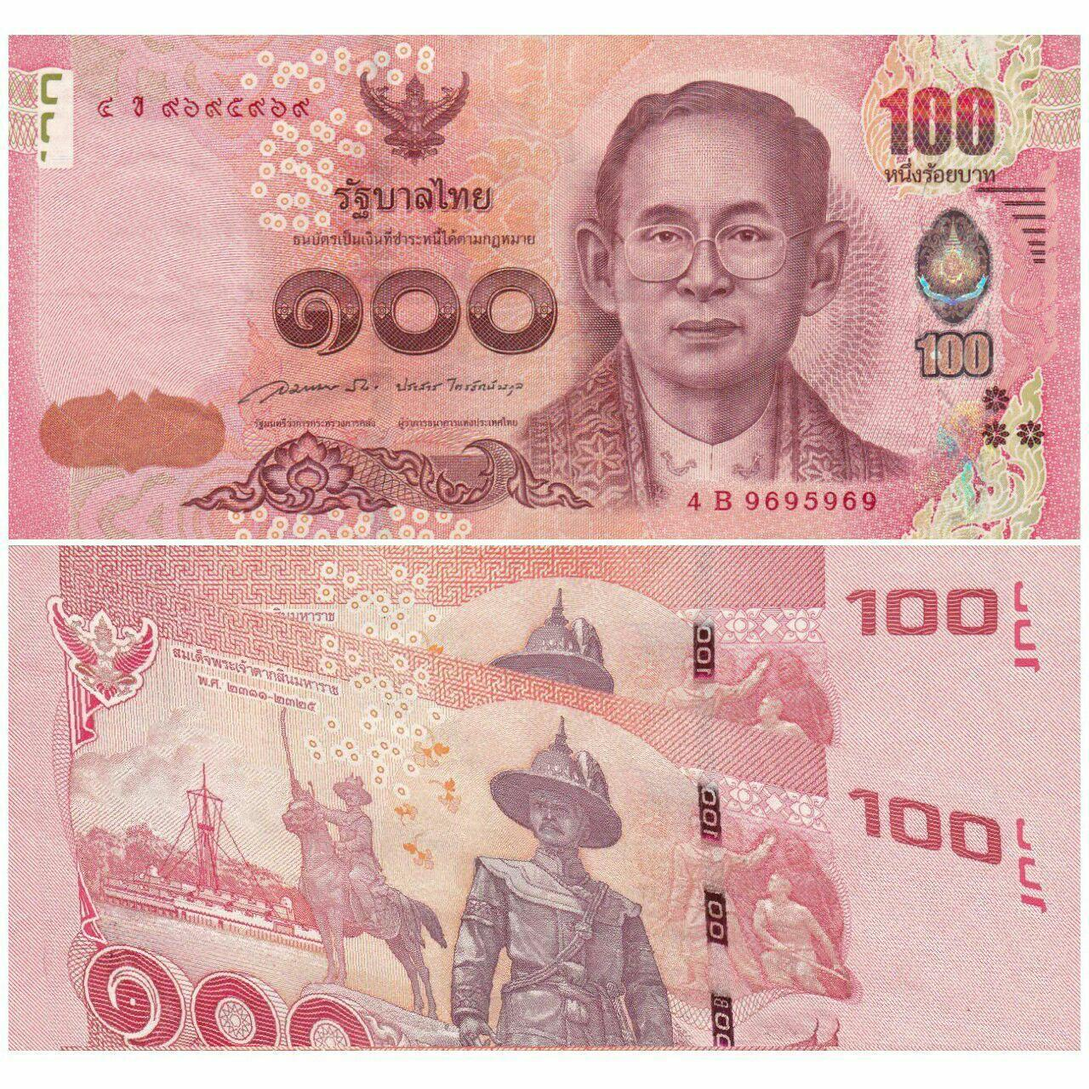100BahtTai: (20, 553, 1068, 1046)
